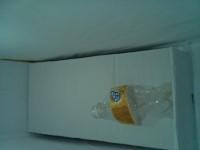bottle: (89, 76, 174, 126)
